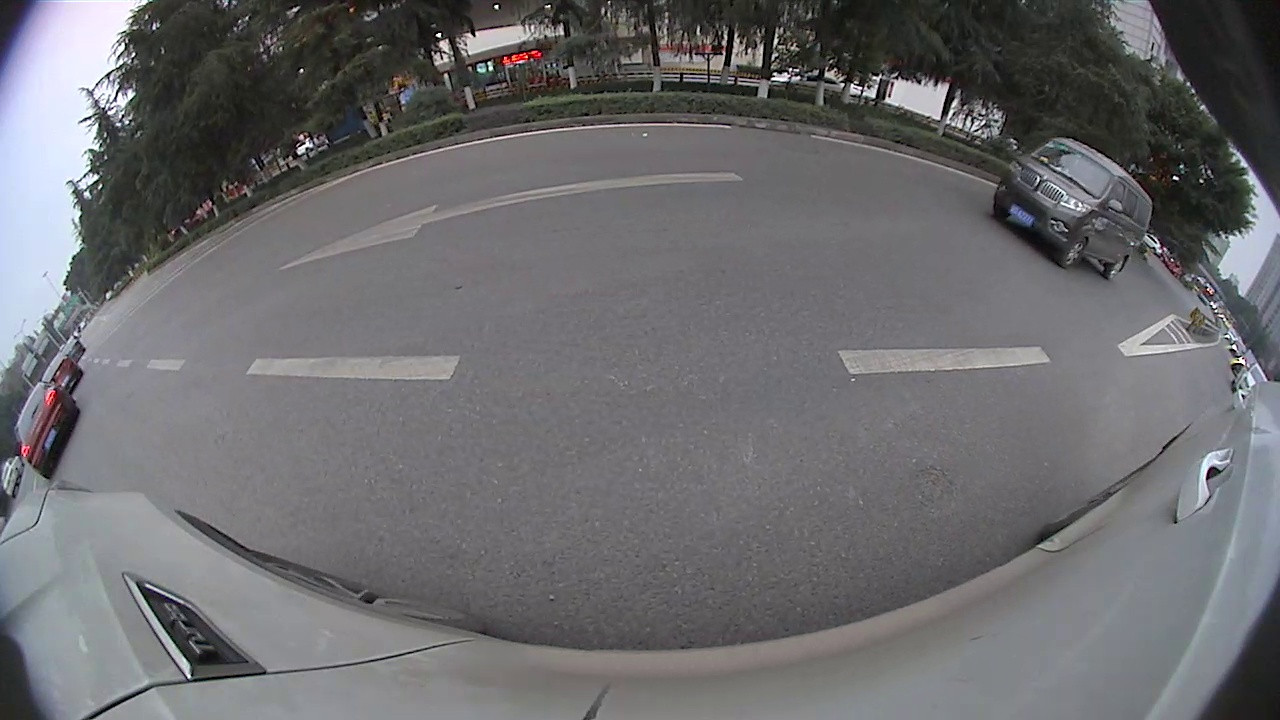car: (992, 138, 1150, 283), (17, 388, 79, 479)
front: (1059, 236, 1089, 270)
rear: (1101, 253, 1130, 282)
